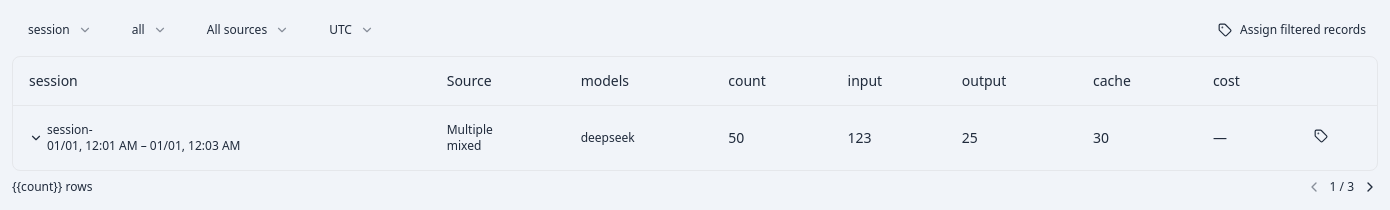
Scenario: grouped usage records › identifies provider-only legacy choices as API when source names collide
Expected: the text "session-" is shown, [47,120,93,138]
Click the dropdown labelled "source": [248, 30] box [191,12,305,48]
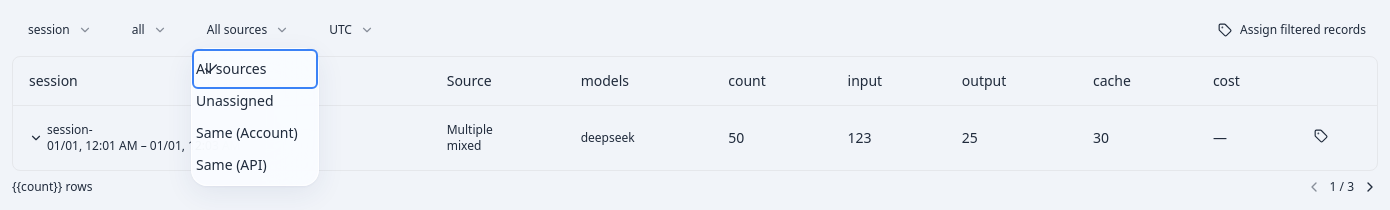
Expected: the option "Same (API)" is shown, [196,155,267,174]
Expected: the option "Same (Account)" is shown, [196,123,298,142]
